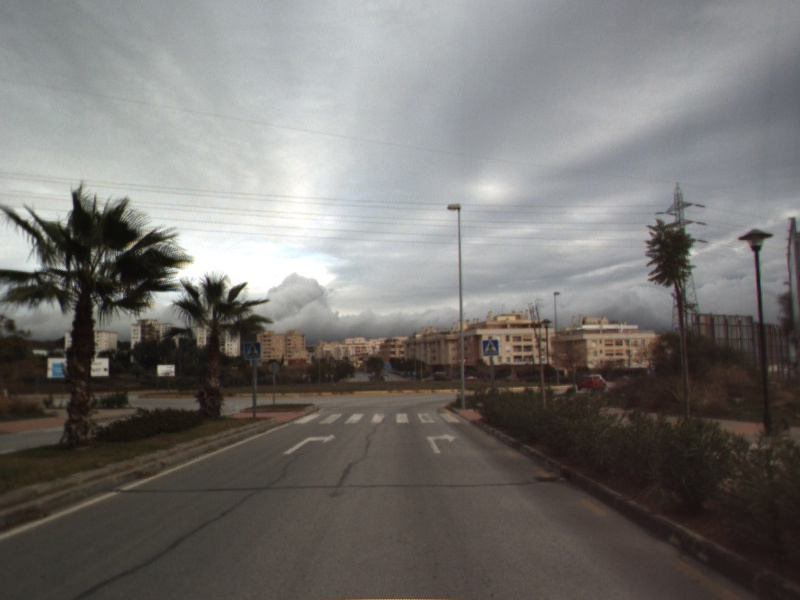RIGHT: (281, 432, 338, 456), (424, 431, 457, 455)
